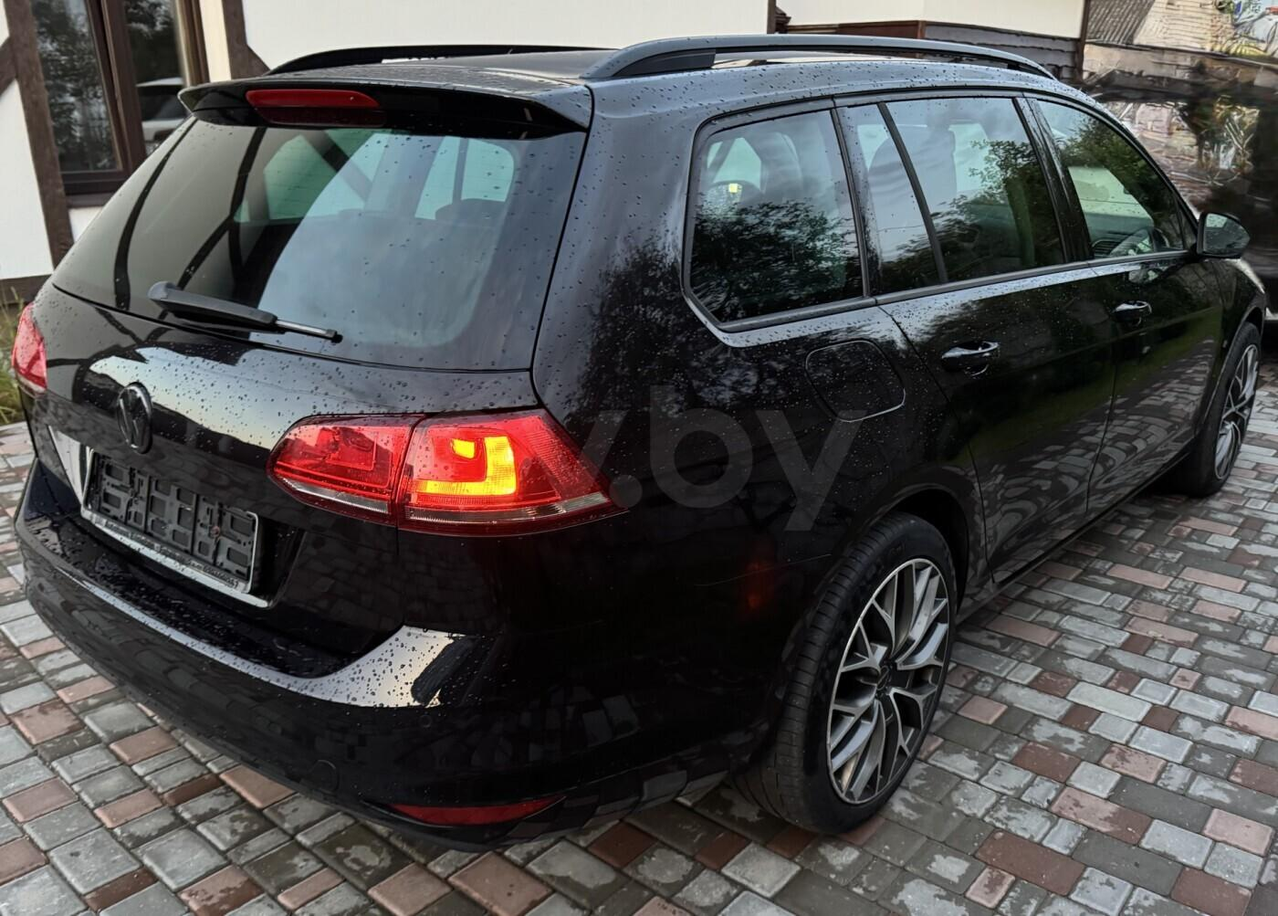Golf_2012-2017: (9, 44, 1278, 851)
